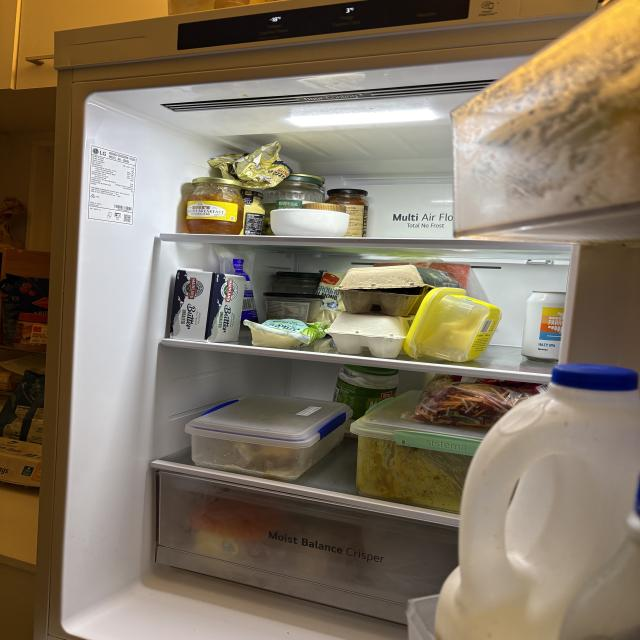Bowl: (268, 206, 356, 240)
Cheese: (241, 306, 316, 352)
Eggs: (334, 253, 424, 359)
Energy drink: (509, 284, 568, 367)
Glass Bottle: (328, 182, 374, 241)
Jam: (170, 170, 248, 236)
Milk: (494, 344, 640, 640)
Pickle: (276, 167, 321, 234)
Pie: (167, 263, 246, 340)
Plastic bottle: (330, 360, 398, 425)
PlasticBox: (366, 393, 505, 504), (180, 391, 343, 477), (415, 284, 491, 363)
Salad: (414, 364, 524, 420)
